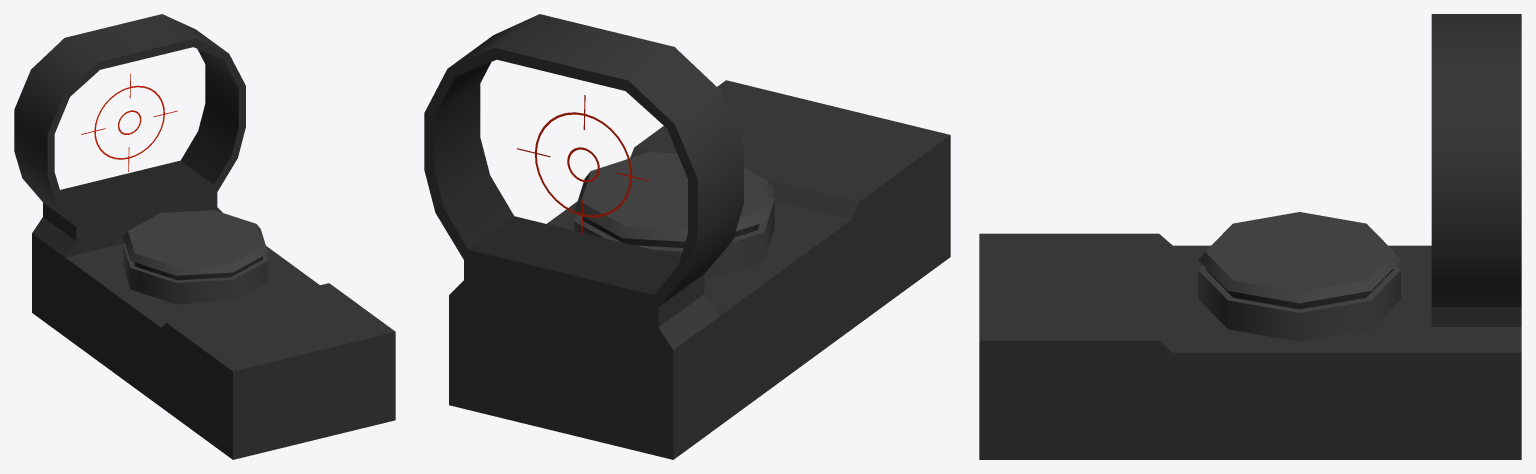
Rendered from ColiSight.fbx.
3 views of the same model, side by side, from view 1: azimuth 30°, elevation 25°; view 2: azimuth 150°, elevation 25°; view 3: azimuth 270°, elevation 25° (orthographic). The views are drawn at different scales.
Parts seen in each view (by area): view 1: Cube; view 2: Cube; view 3: Cube.
Boxes of the visible parts, bbox=[...] form: Cube: bbox=[14, 14, 395, 459]; Cube: bbox=[424, 14, 950, 459]; Cube: bbox=[979, 14, 1521, 459].
Bounding box in the file's own units: 0.057 × 0.0733 × 0.1.
